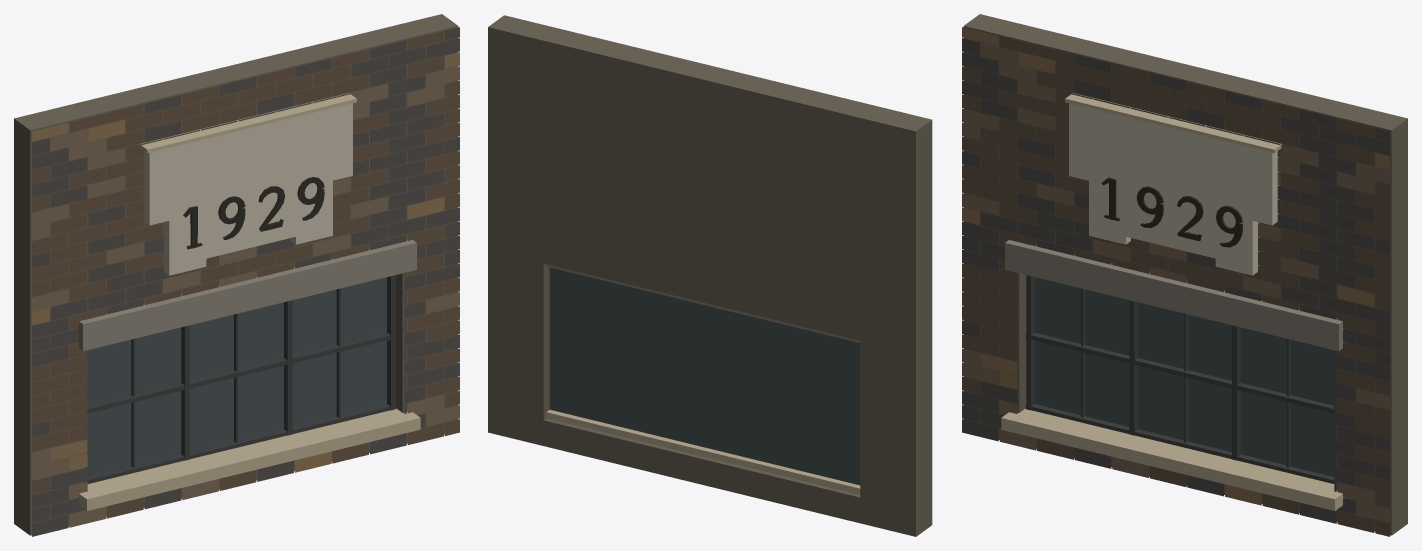
Rendered from huangpu-south-suzhou-warehouse-1929-tablet-lod.glb.
3 views of the same model, side by side, from view 1: azimuth 30°, elevation 25°; view 2: azimuth 150°, elevation 25°; view 3: azimuth 330°, elevation 25° (orthographic).
Visible parts, largest first — view 1: 南苏州路955号仓库临河立面的1929纪年牌与钢窗; view 2: 南苏州路955号仓库临河立面的1929纪年牌与钢窗; view 3: 南苏州路955号仓库临河立面的1929纪年牌与钢窗.
Boxes of the visible parts, bbox=[...] form: 南苏州路955号仓库临河立面的1929纪年牌与钢窗: bbox=[14, 14, 459, 536]; 南苏州路955号仓库临河立面的1929纪年牌与钢窗: bbox=[488, 15, 932, 536]; 南苏州路955号仓库临河立面的1929纪年牌与钢窗: bbox=[962, 14, 1407, 536].
Bounding box in the file's own units: 4 × 3.62 × 0.418.
